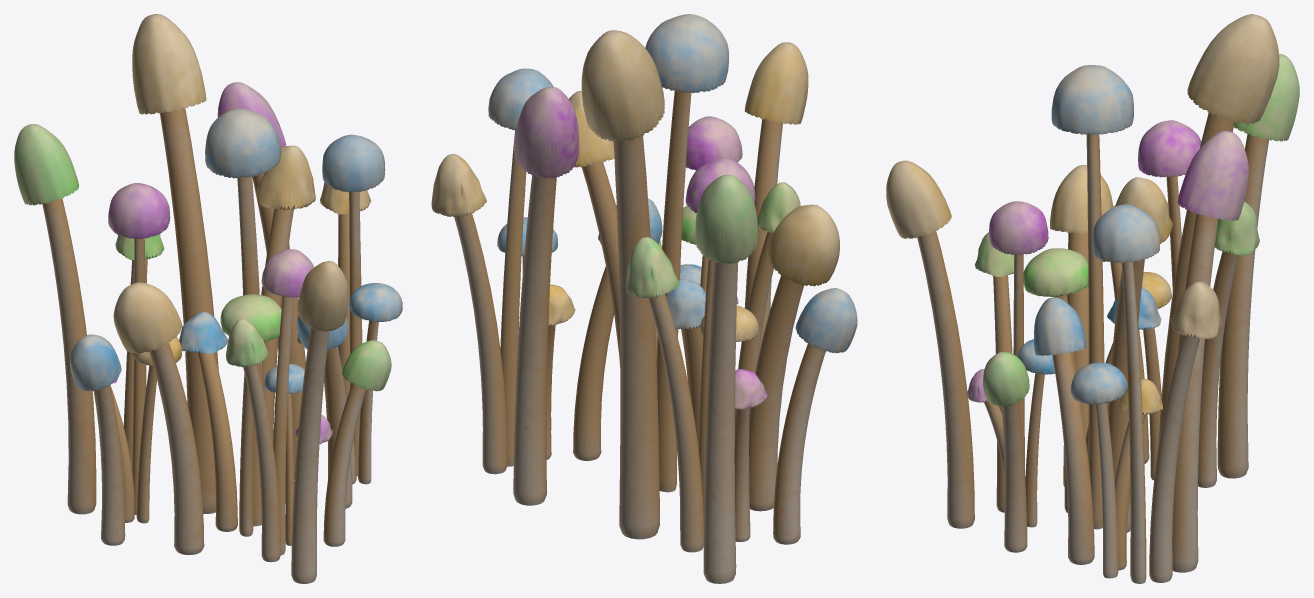
File: Mushrooms.fbx
3 views of the same model, side by side, from view 1: azimuth 30°, elevation 25°; view 2: azimuth 150°, elevation 25°; view 3: azimuth 270°, elevation 25° (orthographic). The views are drawn at different scales.
Visible parts, largest first — view 1: mushOne; view 2: mushOne; view 3: mushOne.
Part boxes in pixels (x1,y1,x2,y2): mushOne: (14, 14, 402, 583); mushOne: (431, 14, 857, 583); mushOne: (886, 14, 1299, 583).
Bounding box in the file's own units: 2131 × 2872 × 2138.
